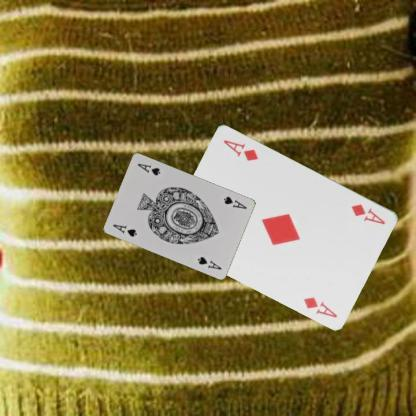Ad: (349, 201, 387, 226)
As: (110, 222, 138, 238), (221, 194, 248, 210)
